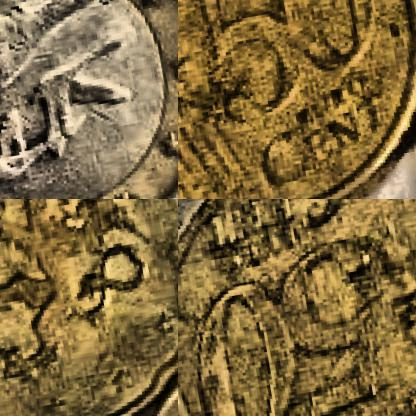coin: (178, 199, 415, 415), (178, 0, 415, 198), (0, 199, 177, 415), (0, 0, 177, 198)
